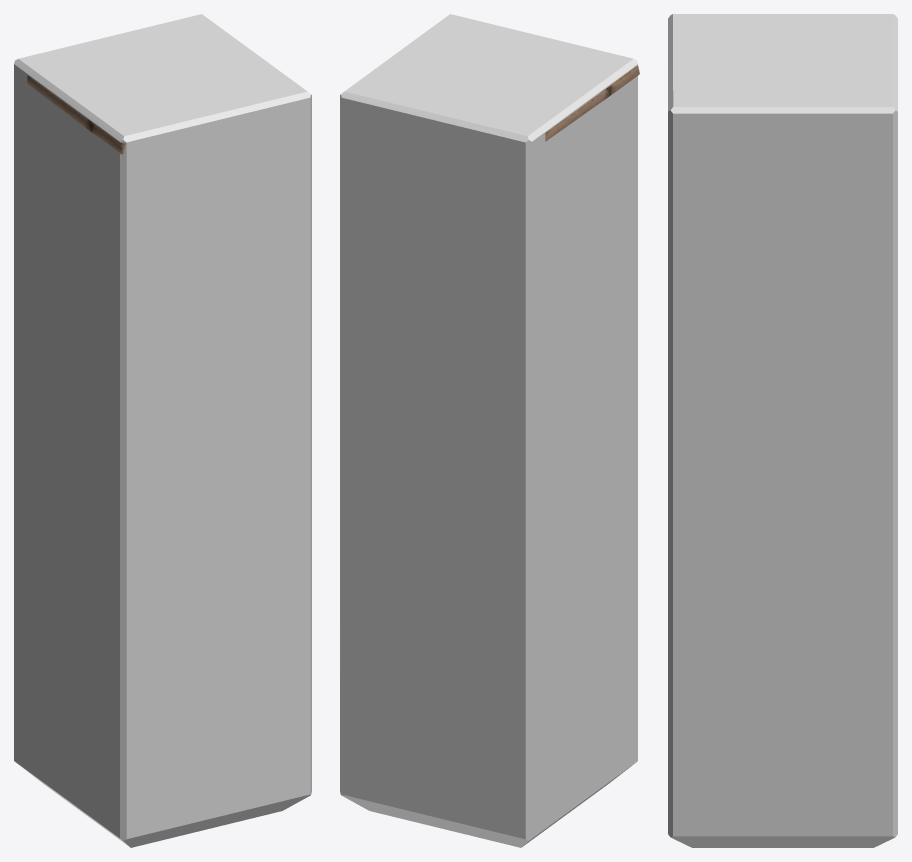
Rendered from SM_column_03.fbx.
3 renders of one model, left to right at view 1: azimuth 30°, elevation 25°; view 2: azimuth 150°, elevation 25°; view 3: azimuth 270°, elevation 25°, orthographic. The views are drawn at different scales.
Visible parts, largest first — view 1: SM_column_03_ConvexHulls, SM_column_03_LOD0; view 2: SM_column_03_ConvexHulls, SM_column_03_LOD0; view 3: SM_column_03_ConvexHulls.
Boxes of the visible parts, box(x1,y1,x2,y2) form: SM_column_03_ConvexHulls: box(14, 14, 311, 847); SM_column_03_LOD0: box(27, 75, 125, 154); SM_column_03_ConvexHulls: box(340, 14, 637, 847); SM_column_03_LOD0: box(545, 65, 639, 141); SM_column_03_ConvexHulls: box(668, 14, 897, 847).
Size of the model in its own units: 195 by 195 by 700.
